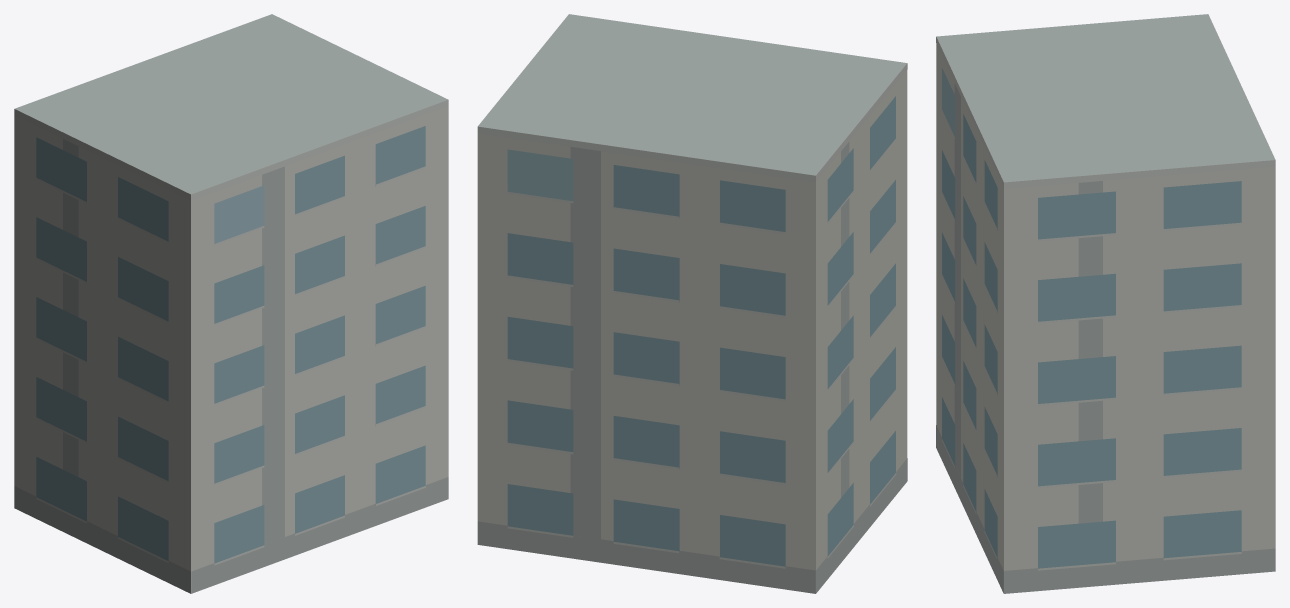
Rendered from residential-5d36a7ca-3049-4658-923c-b0d722a6dad2.glb.
The picture shows the model from 3 angles, left to right: view 1: azimuth 30°, elevation 25°; view 2: azimuth 150°, elevation 25°; view 3: azimuth 270°, elevation 25°; orthographic projection. The views are drawn at different scales.
Visible parts, largest first — view 1: residential-5d36a7ca-3049-4658-923c-b0d722a6dad2.tmp; view 2: residential-5d36a7ca-3049-4658-923c-b0d722a6dad2.tmp; view 3: residential-5d36a7ca-3049-4658-923c-b0d722a6dad2.tmp.
Part boxes in pixels (x1,y1,x2,y2): residential-5d36a7ca-3049-4658-923c-b0d722a6dad2.tmp: (14,14,448,593); residential-5d36a7ca-3049-4658-923c-b0d722a6dad2.tmp: (477,14,907,593); residential-5d36a7ca-3049-4658-923c-b0d722a6dad2.tmp: (936,14,1275,593).
Size of the model in its own units: 13.4 by 15.25 by 11.41.
